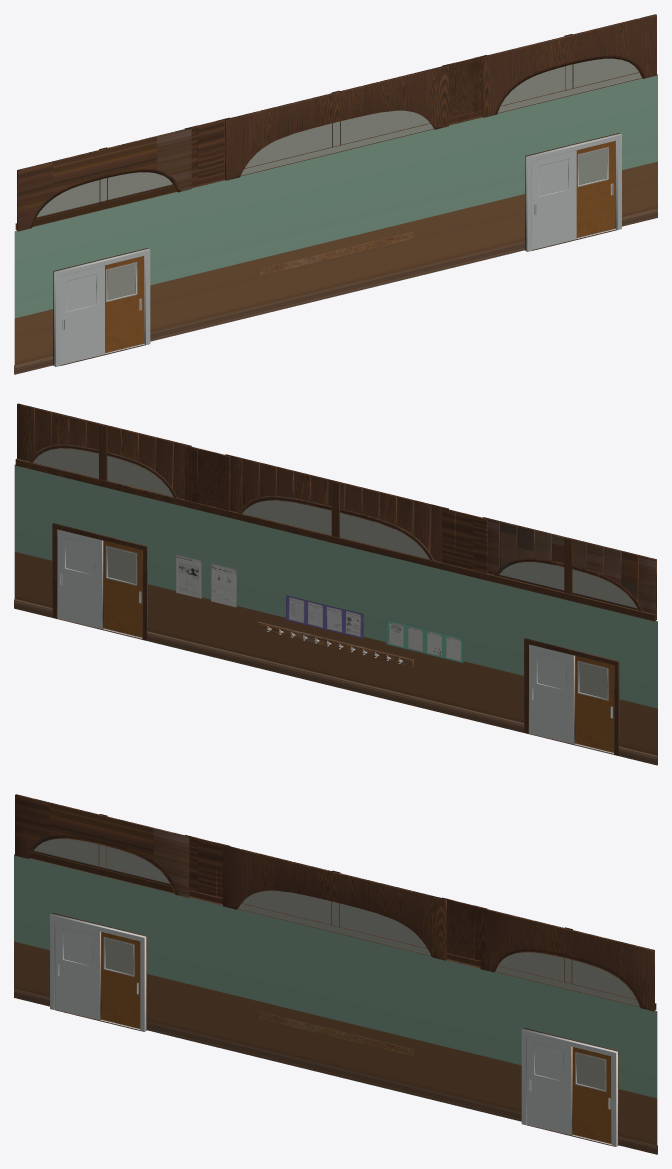
The model's file is a_sch_class1a_hallwaywall01.gltf.
3 renders of one model, top to bottom at view 1: azimuth 30°, elevation 25°; view 2: azimuth 150°, elevation 25°; view 3: azimuth 330°, elevation 25°, orthographic.
Parts seen in each view (by area): view 1: um_a_sch_class1a_hallwaywall01_model_a_sch_class1a_hallwaywa (×5); view 2: um_a_sch_class1a_hallwaywall01_model_a_sch_class1a_hallwaywa (×6); view 3: um_a_sch_class1a_hallwaywall01_model_a_sch_class1a_hallwaywa (×5).
Part boxes in pixels (<box>): um_a_sch_class1a_hallwaywall01_model_a_sch_class1a_hallwaywa (×5): <box>14,14,657,374</box>; um_a_sch_class1a_hallwaywall01_model_a_sch_class1a_hallwaywa (×6): <box>14,403,657,765</box>; um_a_sch_class1a_hallwaywall01_model_a_sch_class1a_hallwaywa (×5): <box>14,794,657,1154</box>.
Size of the model in its own units: 15 by 4.55 by 0.2295.
Materials: 6 (6 with a texture image).
